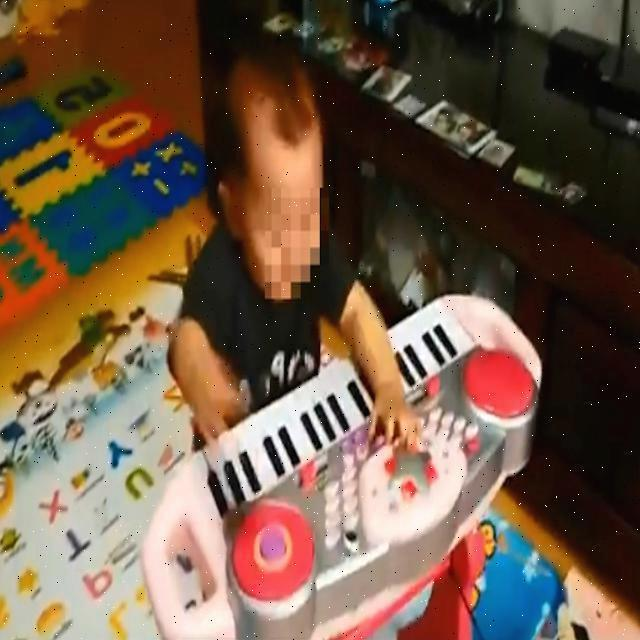child: (165, 37, 424, 455)
